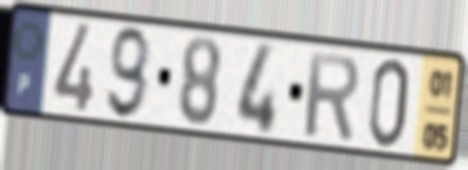0: (365, 55, 413, 152)
4: (51, 18, 98, 117), (234, 38, 280, 138)
8: (177, 34, 223, 130)
9: (105, 23, 155, 124)
R: (302, 47, 362, 143)
